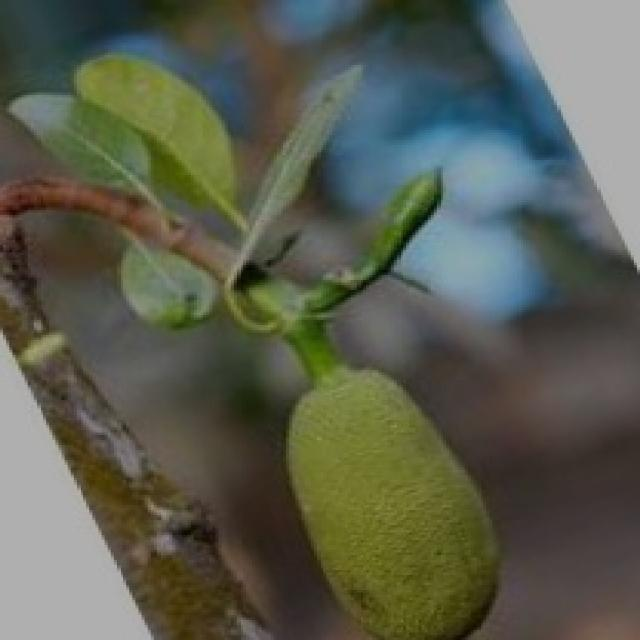Fruit: (237, 335, 551, 640)
